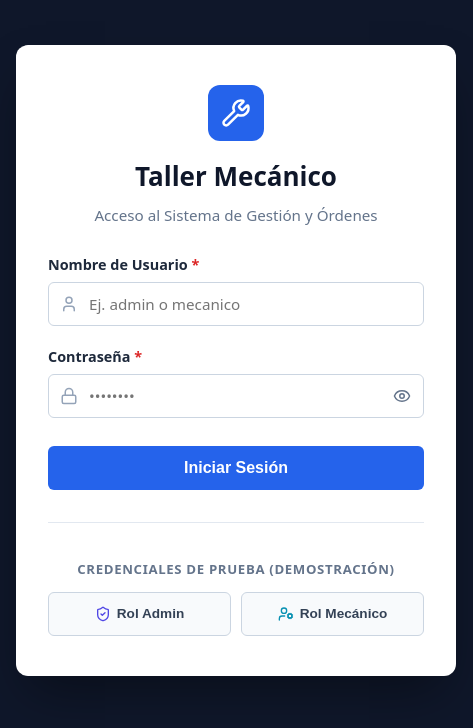
Test: LoginPage Component › debe mostrar errores de validación en cliente (Zod) si los campos están vacíos
The width and height of the screenshot is (473, 728).
Click the button "Iniciar Sesión" at (236, 468), box x1=48 y1=446 x2=424 y2=490
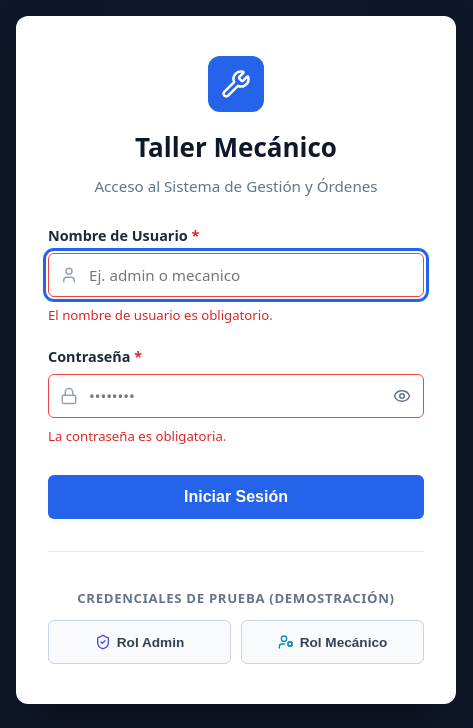
Result: the text "El nombre de usuario es obligatorio." is shown at x1=48 y1=306 x2=273 y2=324
Result: the text "La contraseña es obligatoria." is shown at x1=48 y1=427 x2=226 y2=445
